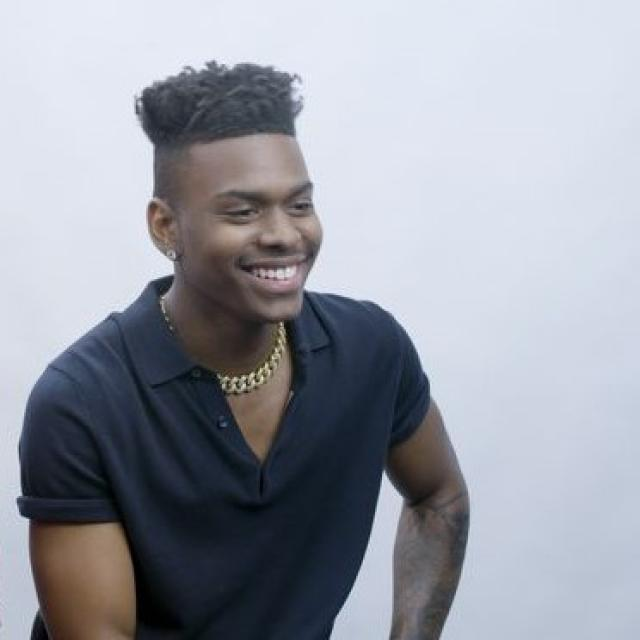human: (14, 53, 480, 640)
